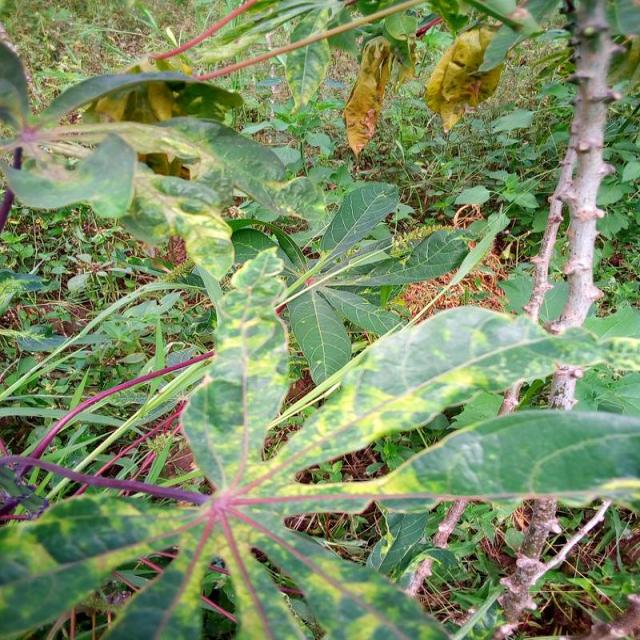cassava leaf: (261, 302, 636, 489), (424, 23, 506, 132)
